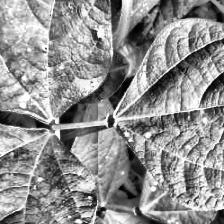Bean Rust: (112, 20, 224, 209), (0, 0, 112, 121), (0, 123, 91, 224)
